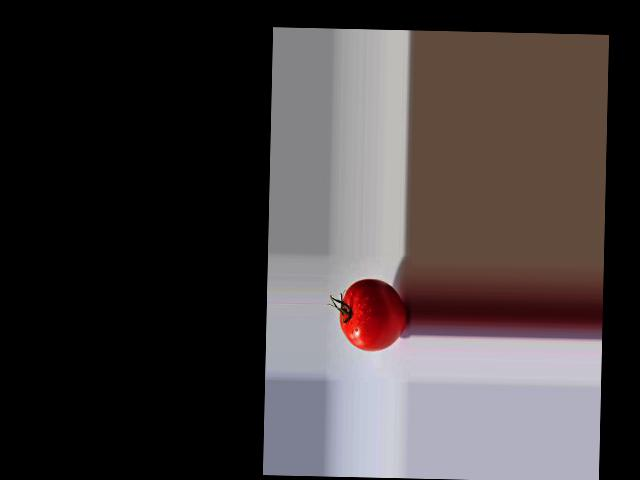tomato: (340, 279, 407, 352)
